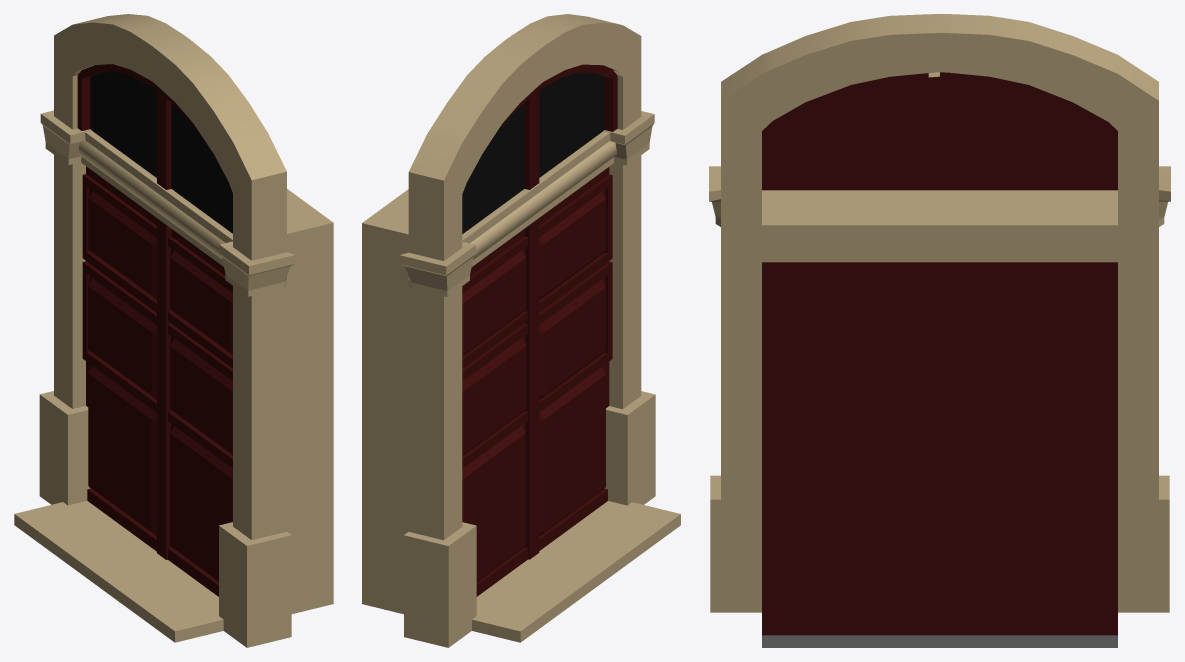
File: DoorDouble2.fbx
3 views of the same model, side by side, from view 1: azimuth 30°, elevation 25°; view 2: azimuth 150°, elevation 25°; view 3: azimuth 270°, elevation 25° (orthographic). The views are drawn at different scales.
Parts seen in each view (by area): view 1: MainDoubleDoor1; view 2: MainDoubleDoor1; view 3: MainDoubleDoor1.
Part boxes in pixels (x1,y1,x2,y2): MainDoubleDoor1: (14, 14, 333, 647); MainDoubleDoor1: (362, 14, 680, 647); MainDoubleDoor1: (709, 14, 1170, 647).
Bounding box in the file's own units: 35.92 × 113 × 81.76.
